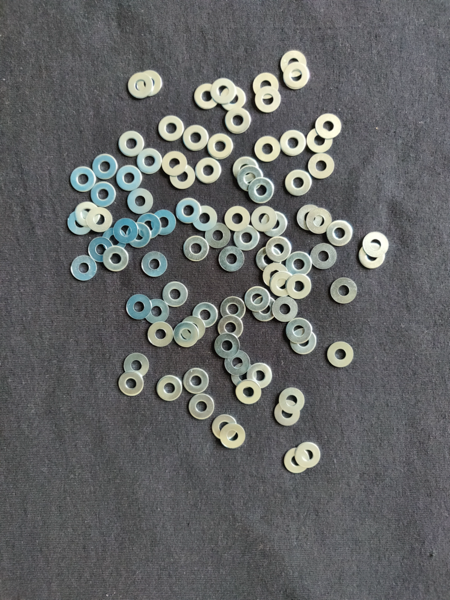circle: (181, 235, 211, 264), (154, 373, 183, 402), (116, 371, 145, 399), (70, 255, 98, 284), (191, 205, 220, 233), (278, 50, 307, 78), (273, 401, 303, 428), (261, 263, 291, 290), (251, 204, 278, 234), (223, 349, 251, 377), (161, 280, 189, 308), (140, 251, 168, 279), (174, 197, 202, 225), (330, 277, 358, 305), (326, 220, 354, 248), (127, 186, 155, 214), (247, 362, 274, 391), (146, 322, 175, 349), (326, 341, 355, 368), (126, 71, 153, 100), (183, 124, 210, 153), (195, 157, 222, 186), (307, 126, 334, 155), (215, 246, 245, 272), (143, 299, 170, 327), (205, 222, 233, 249), (233, 225, 261, 252), (224, 204, 251, 232), (359, 243, 387, 270), (69, 166, 97, 193), (116, 164, 144, 191), (118, 130, 145, 158), (225, 108, 253, 135), (209, 414, 238, 440), (273, 296, 299, 325), (310, 244, 339, 270), (261, 211, 290, 237), (137, 69, 163, 98), (232, 156, 258, 185), (285, 170, 314, 196), (307, 154, 336, 180), (280, 128, 306, 157), (314, 113, 343, 139), (279, 387, 306, 414), (122, 352, 149, 379), (103, 246, 130, 273), (296, 204, 323, 231), (158, 115, 185, 142), (252, 73, 279, 100), (284, 449, 310, 477), (232, 362, 258, 390), (244, 286, 272, 312), (284, 318, 312, 344), (150, 208, 176, 236), (255, 247, 283, 273), (307, 208, 333, 236), (362, 232, 390, 258), (221, 423, 246, 452), (184, 366, 209, 395), (233, 380, 262, 405), (219, 297, 249, 321), (289, 331, 319, 355), (295, 442, 321, 469), (188, 395, 215, 421), (173, 322, 199, 349), (252, 295, 278, 322), (100, 228, 127, 254), (124, 222, 150, 249), (135, 212, 161, 239), (208, 133, 234, 160), (237, 166, 263, 193), (255, 88, 282, 114), (136, 148, 161, 176), (212, 77, 237, 105), (126, 294, 152, 320), (267, 236, 293, 262), (66, 211, 92, 237), (87, 208, 113, 234), (215, 332, 240, 359), (181, 316, 206, 343), (90, 183, 117, 208), (169, 165, 196, 190), (249, 179, 276, 204), (255, 135, 280, 162), (284, 63, 311, 88), (192, 301, 216, 329), (288, 251, 313, 277), (92, 154, 117, 180), (195, 84, 220, 110), (163, 150, 187, 177), (223, 85, 247, 112), (74, 203, 99, 228), (286, 275, 312, 299), (113, 219, 137, 244), (89, 237, 112, 263), (271, 272, 294, 297), (218, 317, 244, 339)
